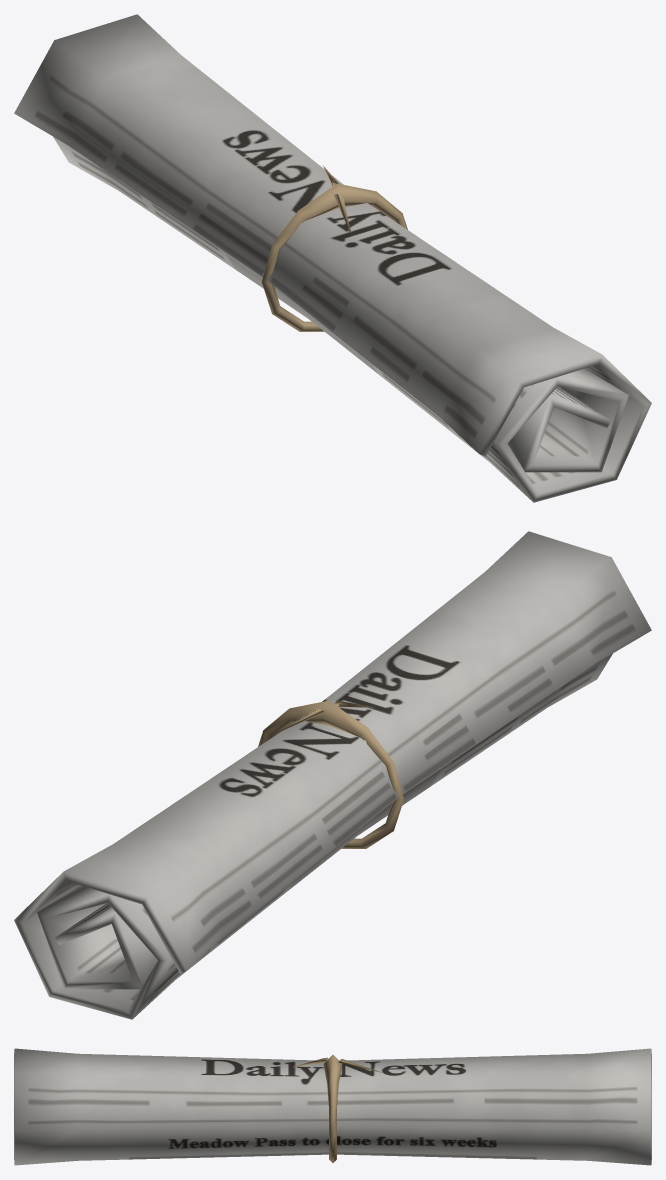
Rendered from news-roll.glb.
3 renders of one model, top to bottom at view 1: azimuth 30°, elevation 25°; view 2: azimuth 150°, elevation 25°; view 3: azimuth 270°, elevation 25°, orthographic. The views are drawn at different scales.
Parts seen in each view (by area): view 1: NewspaperRoll, RollString; view 2: NewspaperRoll, RollString; view 3: NewspaperRoll, RollString.
Boxes of the visible parts, x1=… form: NewspaperRoll: x1=14, y1=14, x2=651, y2=502; RollString: x1=262, y1=165, x2=407, y2=331; NewspaperRoll: x1=14, y1=531, x2=651, y2=1019; RollString: x1=258, y1=700, x2=403, y2=848; NewspaperRoll: x1=14, y1=1048, x2=651, y2=1165; RollString: x1=293, y1=1055, x2=381, y2=1162.
Size of the model in its own units: 0.0902 by 0.0739 by 0.4204.
2 materials, 1 textured.
